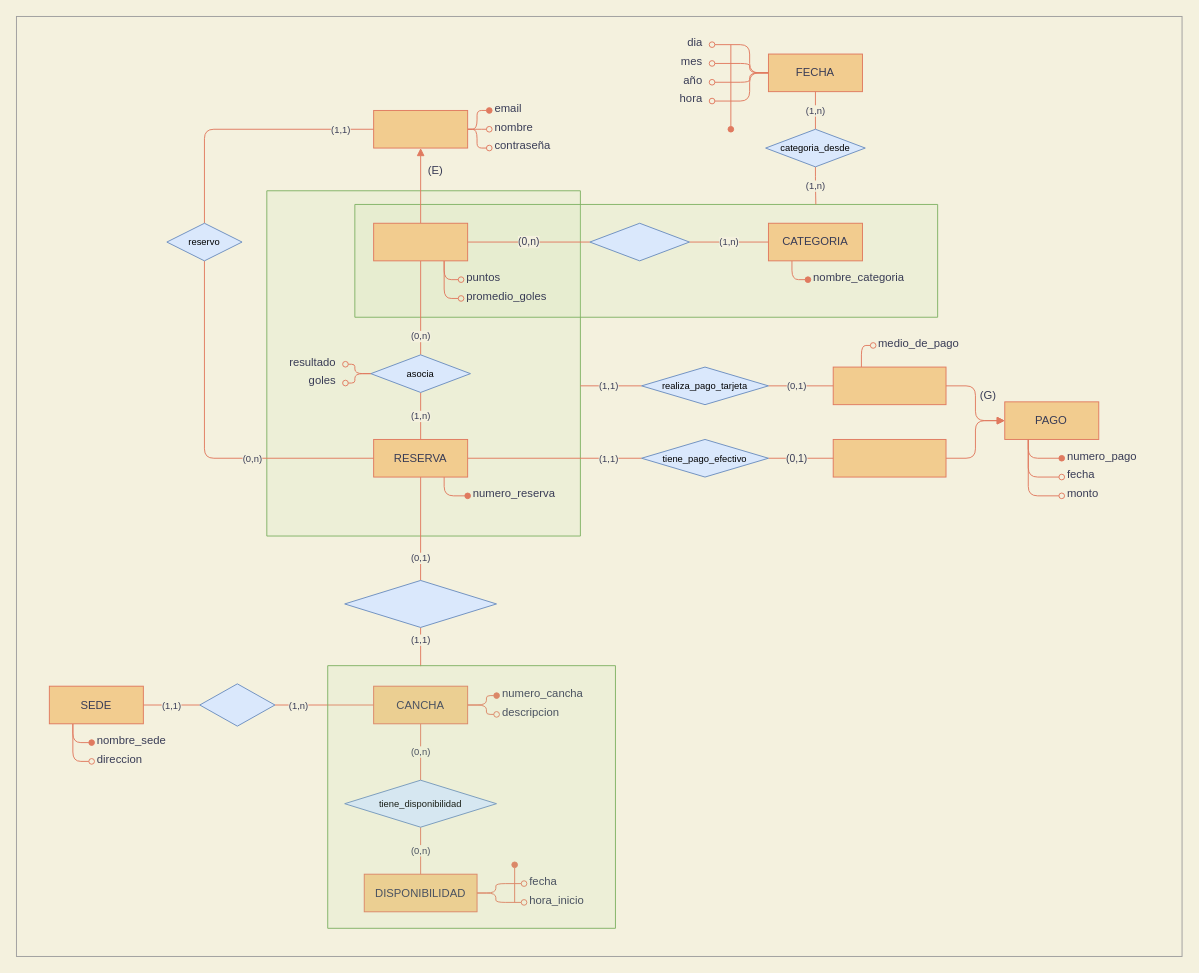
The diagram is 1199 pixels wide and 973 high, and some of its shapes have lost their labels. The centre of each missing label's shape, as x and y in pixels:
"de_cancha_disponibilidad" goes at pixel 420 603.
"JUGADOR" goes at pixel 420 241.
"PAGO_EFECTIVO" goes at pixel 889 458.
"PAGO_TARJETA" goes at pixel 889 385.
"posee" goes at pixel 237 704.
"tiene_categoria" goes at pixel 639 241.
"USUARIO" goes at pixel 420 129.
